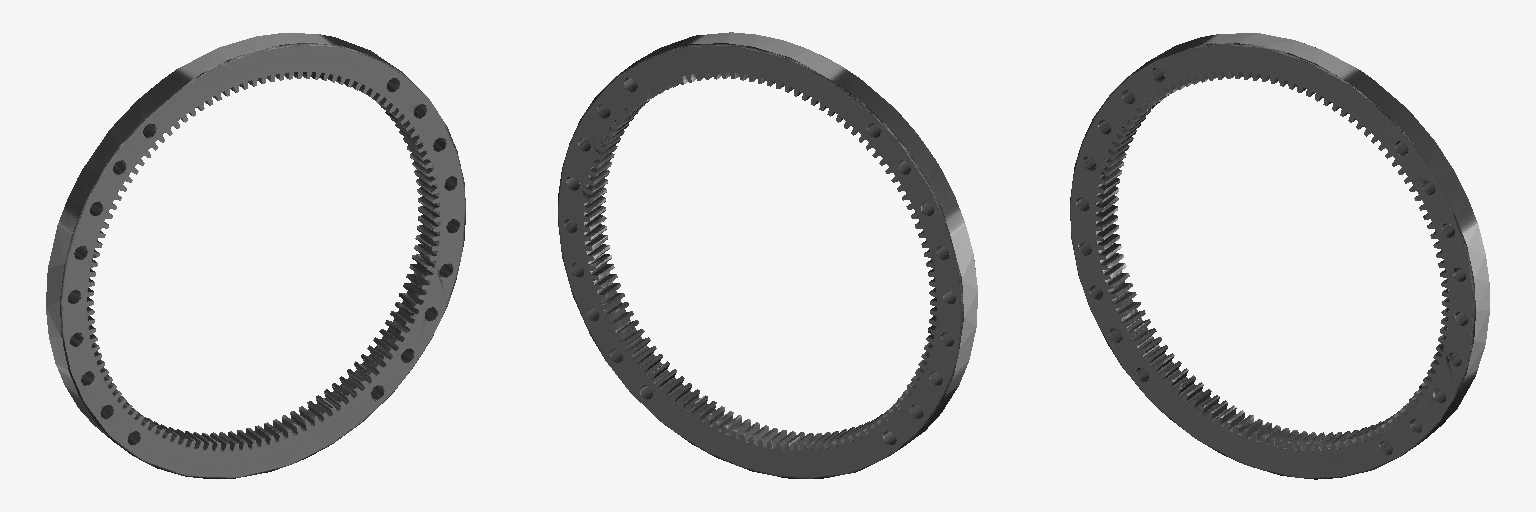
The picture shows the model from 3 angles: view 1: azimuth 30°, elevation 25°; view 2: azimuth 150°, elevation 25°; view 3: azimuth 330°, elevation 25°; orthographic projection.
Visible parts, largest first — view 1: Piñon.012_Mesh.058; view 2: Piñon.012_Mesh.058; view 3: Piñon.012_Mesh.058.
Boxes of the visible parts, x1=… form: Piñon.012_Mesh.058: x1=46, y1=33, x2=465, y2=478; Piñon.012_Mesh.058: x1=558, y1=32, x2=977, y2=478; Piñon.012_Mesh.058: x1=1070, y1=33, x2=1489, y2=479.
Bounding box in the file's own units: 0.392 × 0.3919 × 0.0262.
Materials: 1 (1 with a texture image).